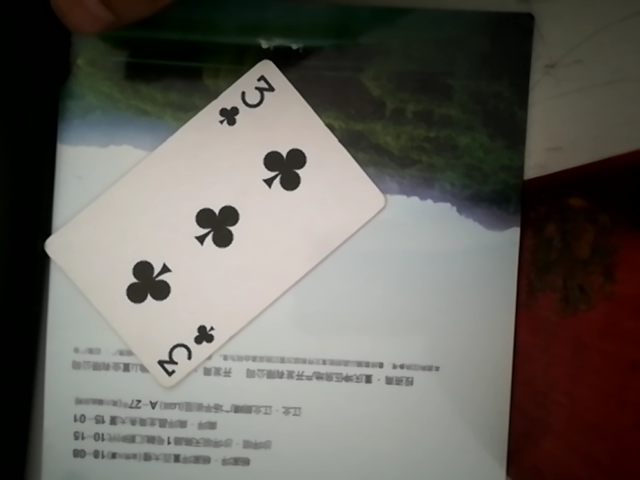mh 3: (56, 50, 378, 374)
